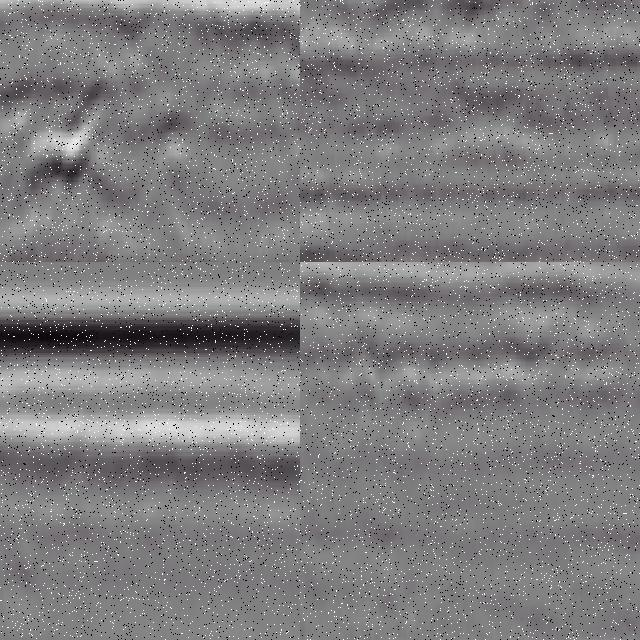loose: (320, 276, 640, 410), (1, 428, 119, 554), (13, 100, 150, 196), (345, 1, 583, 45)
